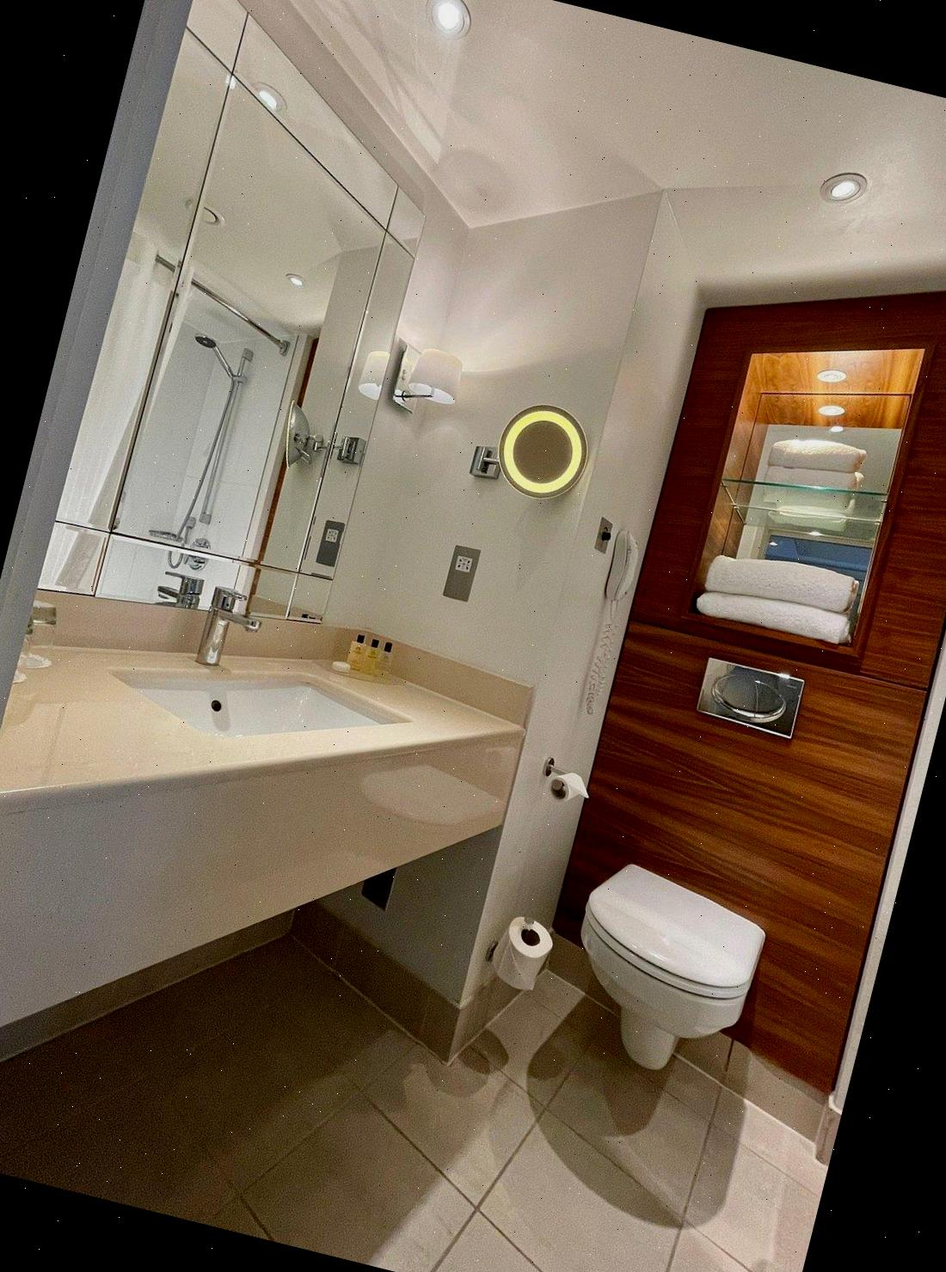clean_floor: (0, 935, 821, 1272)
clean_sink: (105, 568, 462, 838)
folded_towel: (695, 549, 854, 647), (765, 424, 866, 498)
